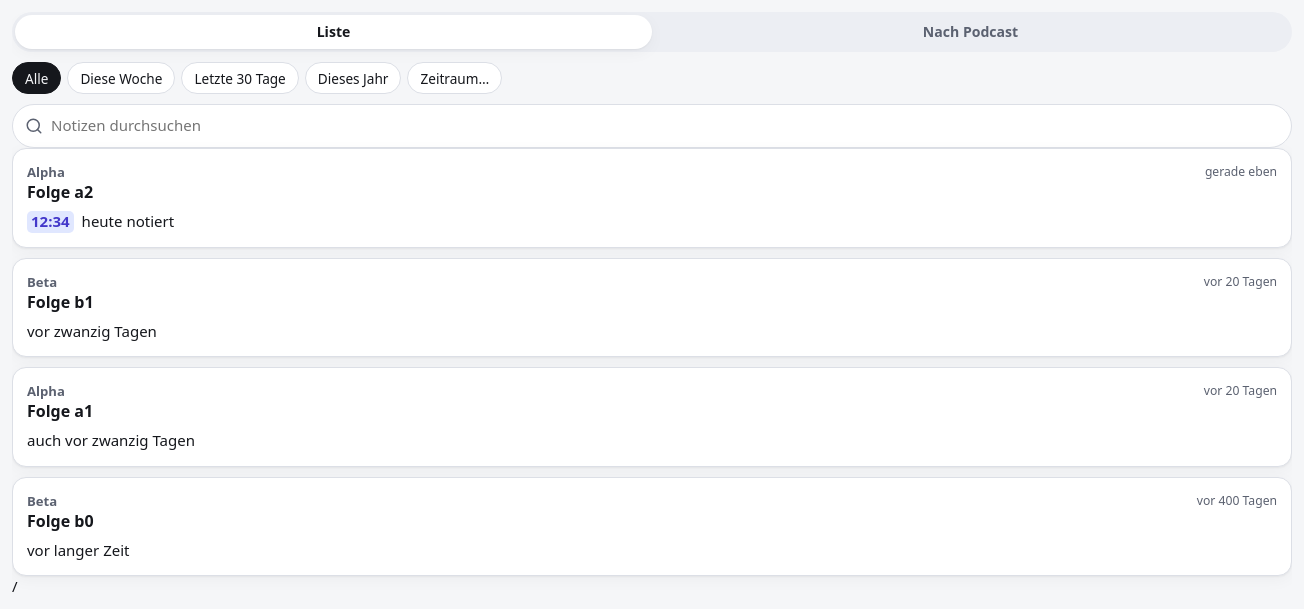
it: NotesTab › limits notes to a period and searches within it
This screenshot has width=1304, height=609.
Expected: the text "heute notiert" is shown, [82, 211, 174, 231]
Click the button "Letzte 30 Tage" at (240,78), box [181, 62, 299, 94]
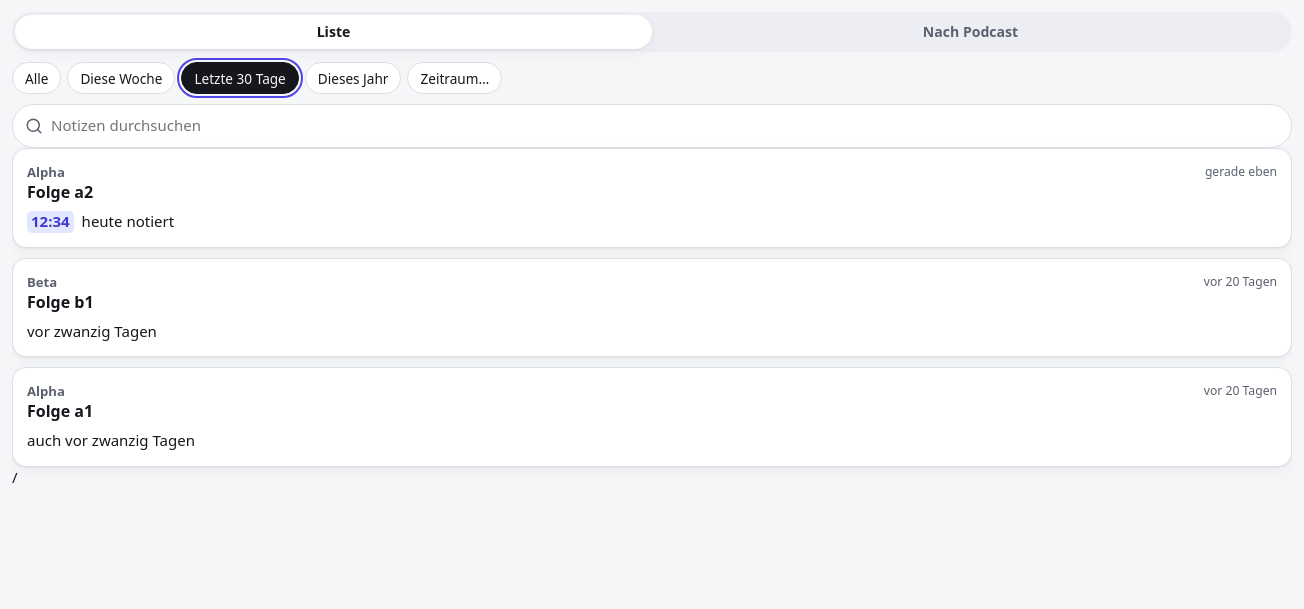
Type "zwanzig" into the search field with placeholder "Notizen durchsuchen" at (665,126), box [51, 105, 1279, 147]
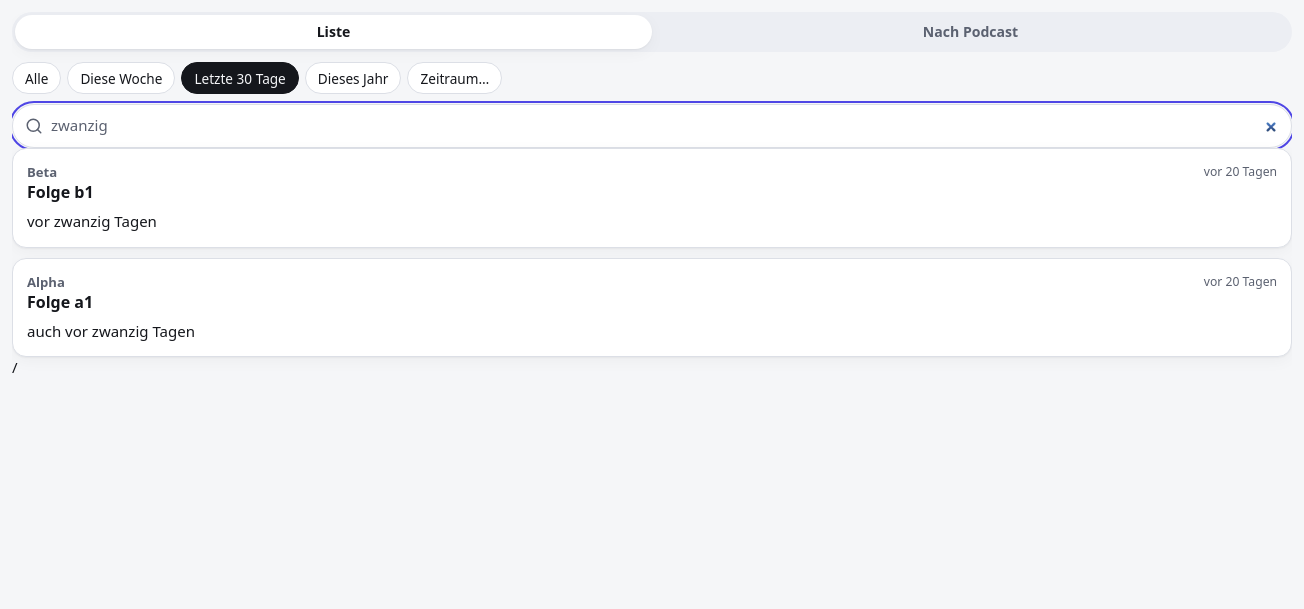
Type " gibt es nicht" into the search field with placeholder "Notizen durchsuchen" at (665,126), box [51, 105, 1279, 147]
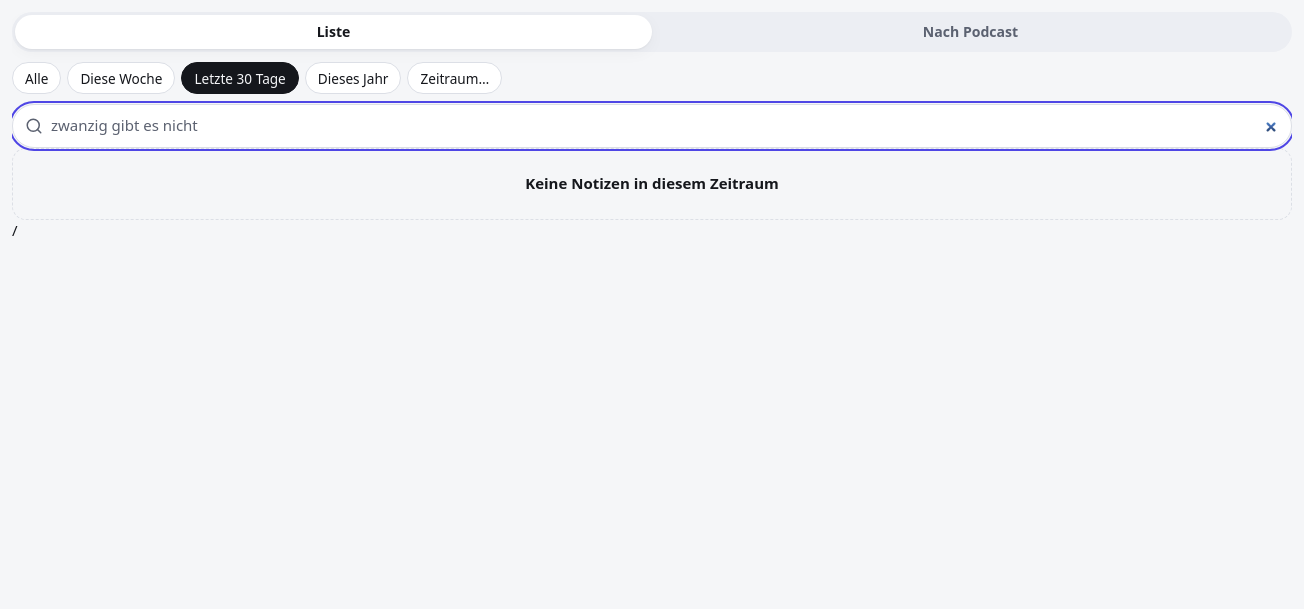
Now the text "Keine Notizen in diesem Zeitraum" is shown, box [525, 173, 779, 193]
